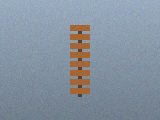insulator: (68, 23, 92, 98)
